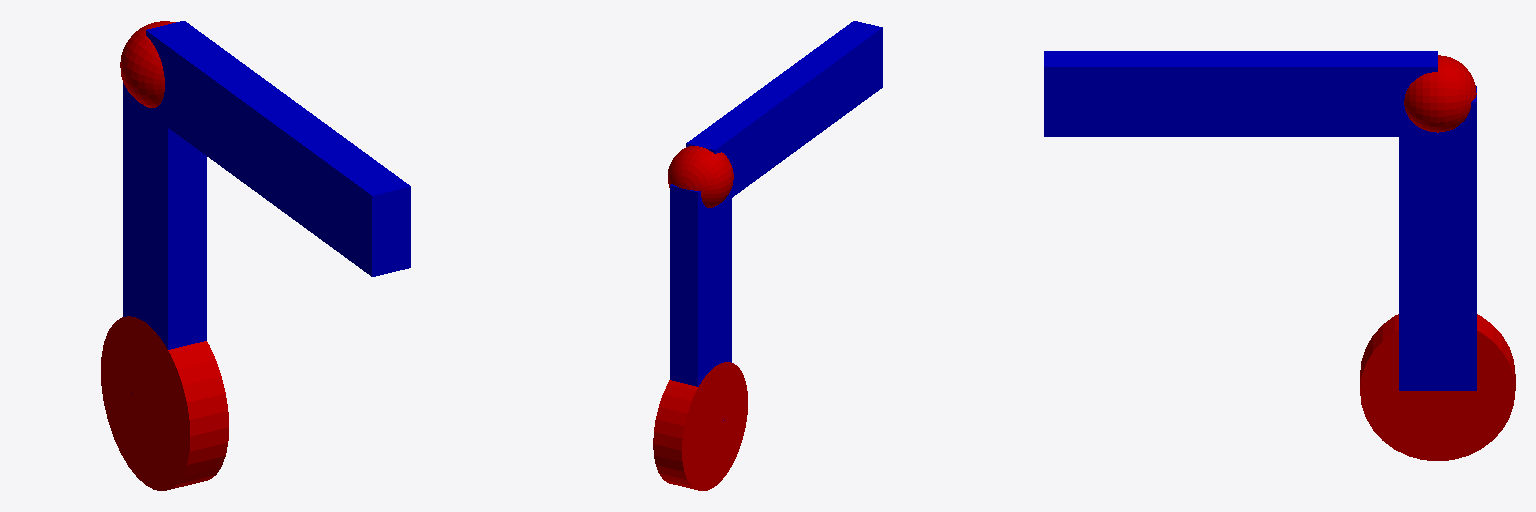
robot.urdf — TwoLink3502053582:
<?xml version="1.0"?>
<robot  name="TwoLink3502053582" >
 <material  name="blue" >
  <color  rgba="0 0 0.8 1.0" />
 </material>
 <material  name="red" >
  <color  rgba="0.8 0 0 1.0" />
 </material>
 <link  name="base_link" >
  <visual >
   <origin  xyz="0 0 0"  rpy="0 1.5707 0" />
   <material  name="red" />
   <geometry >
    <cylinder  length="0.05"  radius="0.1" />
   </geometry>
  </visual>
 </link>
 <joint  type="revolute"  name="joint1" >
  <parent  link="base_link" />
  <child  link="link1" />
  <origin  xyz="0 0 0"  rpy="0 0 0" />
  <axis  xyz="1 0 0" />
 </joint>
 <link  name="link1" >
  <inertial >
   <origin  xyz="0 0 0.204829298"  rpy="0 0 0" />
   <mass  value="2.150707629" />
   <inertia  izz="0.03052573990276005"  iyy="0.00089612817875"  iyz="0.0"  ixz="0.0"  ixx="0.03052573990276005"  ixy="0.0" />
  </inertial>
  <visual >
   <origin  xyz="0 0 0.204829298"  rpy="0 0 0" />
   <material  name="blue" />
   <geometry >
    <box  size="0.05 0.1 0.409658596" />
   </geometry>
  </visual>
 </link>
 <joint  type="fixed"  name="joint-joint-1" >
  <parent  link="link1" />
  <child  link="joint-link-1" />
  <origin  xyz="0 0 0.409658596"  rpy="1.5707 0 0" />
  <axis  xyz="1 0 0" />
 </joint>
 <link  name="joint-link-1" >
  <inertial >
   <origin  xyz="0 0 0"  rpy="0 0 0" />
   <mass  value="0.001" />
   <inertia  izz="0"  iyy="0"  iyz="0"  ixz="0"  ixx="0"  ixy="0" />
  </inertial>
  <visual >
   <origin  xyz="0 0 0"  rpy="0 0 0" />
   <material  name="red" />
   <geometry >
    <sphere  radius="0.05" />
   </geometry>
  </visual>
 </link>
 <joint  type="revolute"  name="joint2" >
  <parent  link="link1" />
  <child  link="link2" />
  <origin  xyz="0 0 0.409658596"  rpy="1.5707 0 0" />
  <axis  xyz="1 0 0" />
 </joint>
 <link  name="link2" >
  <inertial >
   <origin  xyz="0 0 0.252836319"  rpy="0 0 0" />
   <mass  value="2.150707629" />
   <inertia  izz="0.046276922448613554"  iyy="0.00089612817875"  iyz="0.0"  ixz="0.0"  ixx="0.046276922448613554"  ixy="0.0" />
  </inertial>
  <visual >
   <origin  xyz="0 0 0.252836319"  rpy="0 0 0" />
   <material  name="blue" />
   <geometry >
    <box  size="0.05 0.1 0.505672638" />
   </geometry>
  </visual>
 </link>
 <joint  type="fixed"  name="eef_joint" >
  <parent  link="link2" />
  <child  link="eef" />
  <origin  xyz="0 0 0.505672638"  rpy="0 0 0" />
 </joint>
 <link  name="eef" >
  <inertial >
   <origin  xyz="0 0 0"  rpy="0 0 0" />
   <mass  value="1" />
   <inertia  izz="0"  iyy="0"  iyz="0"  ixz="0"  ixx="0"  ixy="0" />
  </inertial>
 </link>
 <transmission  name="motor1" >
  <type  xmltext="SimpleTransmission" >
   SimpleTransmission
  </type>
  <actuator  name="motor1" >
   <mechanicalreduction  xmltext="1" >
    1
   </mechanicalreduction>
  </actuator>
  <joint  name="joint1" />
 </transmission>
 <transmission  name="motor2" >
  <type  xmltext="SimpleTransmission" >
   SimpleTransmission
  </type>
  <actuator  name="motor2" >
   <mechanicalreduction  xmltext="1" >
    1
   </mechanicalreduction>
  </actuator>
  <joint  name="joint2" />
 </transmission>
</robot>

<!-- {'carti': array([-0.1 ,  0.14,  0.85]), 'cartd': array([-0.1 ,  0.32,  1.29]), 'tau_mu': 0.22510615, 'b0': 0.496830264, 'Km': 4.08703014, 'k_velocity': 1.606, 'tau_max_m': 3.27477237, 'omega_max_m': 4650.00177, 'gear_ratio': 22.1475394, 'Kp': 15, 'Kd': 7.8, 'm_m': 0.001, 'l1': 0.409658596, 'l2': 0.505672638}-->

--- Facts derived from the render (not from the file) ---
Views: 3 orthographic renders of the robot side by side, from view 1: azimuth 30°, elevation 25°; view 2: azimuth 150°, elevation 25°; view 3: azimuth 270°, elevation 25°.
Model TwoLink3502053582 with 5 links and 4 joints (2 revolute, 2 fixed), rooted at base_link, posed every joint at zero.
Links seen in each view (by area): view 1: link2, link1, base_link, joint-link-1; view 2: link2, link1, base_link, joint-link-1; view 3: link2, link1, base_link, joint-link-1.
Boxes of the visible links, x1,y1,x2,y2 form: link2: (146, 21, 410, 276); link1: (123, 83, 206, 393); base_link: (101, 316, 228, 490); joint-link-1: (120, 21, 175, 107); link2: (686, 21, 882, 206); link1: (670, 184, 731, 420); base_link: (653, 362, 747, 490); joint-link-1: (668, 146, 733, 207); link2: (1044, 51, 1437, 136); link1: (1399, 86, 1476, 390); base_link: (1360, 314, 1515, 460); joint-link-1: (1404, 55, 1476, 132).
Bounding box of the posed robot: 0.1 × 0.6057 × 0.5597 m (x, y, z).
Geometry: primitives only (box / cylinder / sphere), no mesh files.
